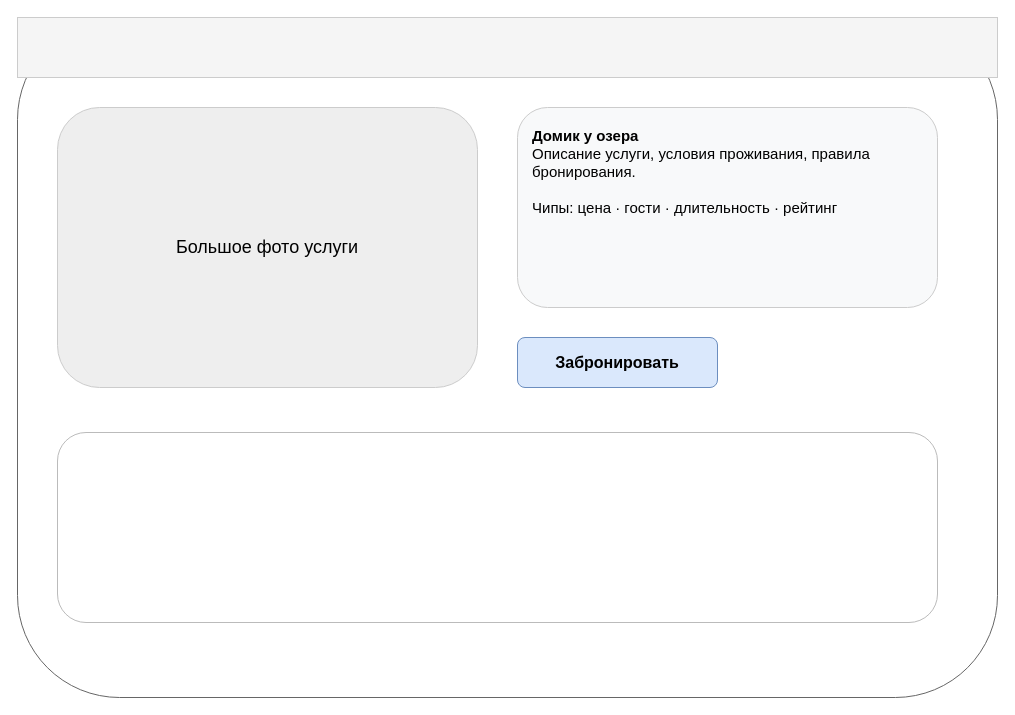
Some shapes in this 1015 by 715 pixel diagram are drawn without their labels. Each missing label, with the centre of its shape:
Re-Center Услуги Акции Новости Профиль: point 507,47
Отзывы клиентов Карточка отзыва · оценка · текст · дата: point 497,527
